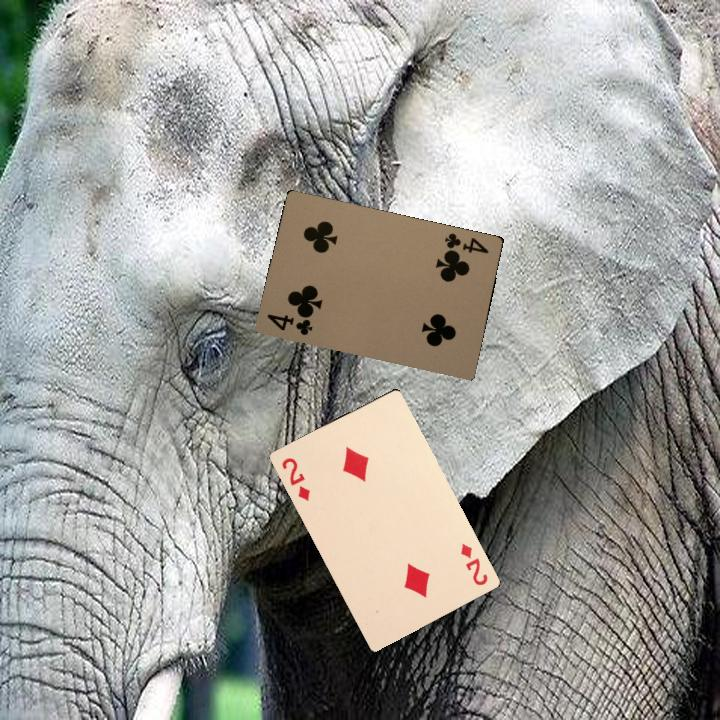2d: (278, 454, 313, 503), (457, 539, 490, 588)
4c: (263, 310, 315, 338), (441, 228, 491, 256)
